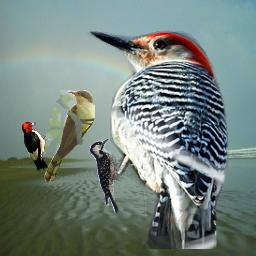Cuckoo: (44, 90, 95, 183)
Woodpecker: (81, 19, 236, 249), (89, 137, 129, 213), (21, 121, 52, 172)
